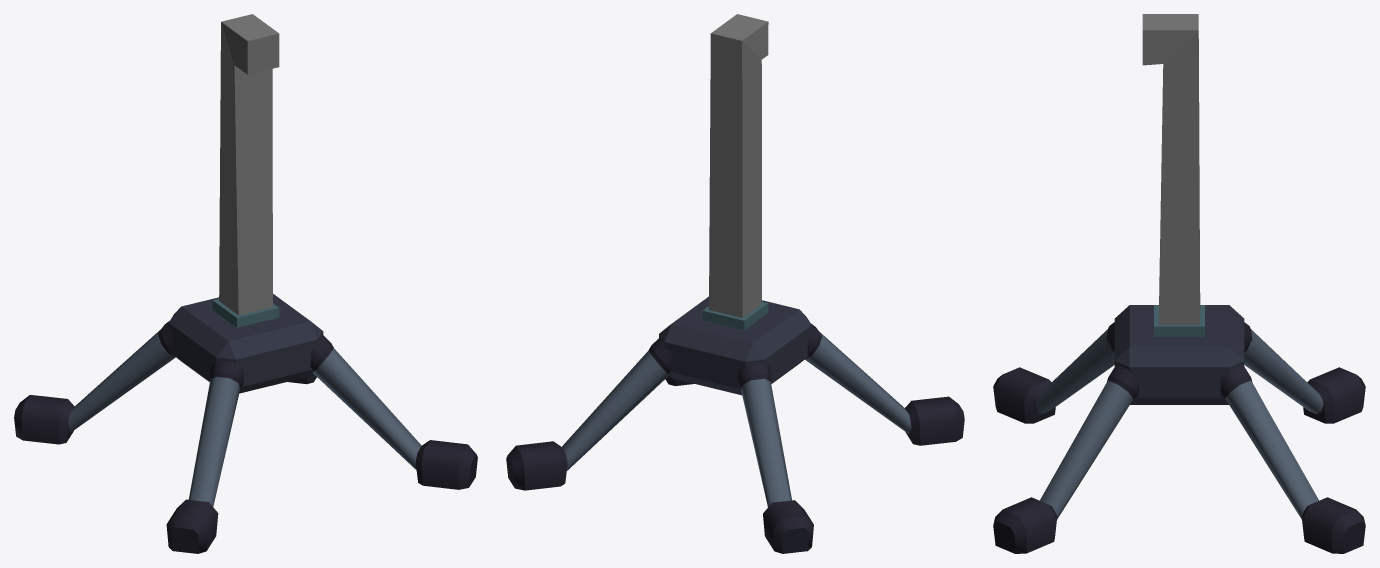
Rendered from SignHolder_2_A.glb.
The picture shows the model from 3 angles, left to right: view 1: azimuth 30°, elevation 25°; view 2: azimuth 150°, elevation 25°; view 3: azimuth 270°, elevation 25°; orthographic projection. The views are drawn at different scales.
Visible parts, largest first — view 1: SignHolder_2_A; view 2: SignHolder_2_A; view 3: SignHolder_2_A.
Part boxes in pixels (x1,y1,x2,y2): SignHolder_2_A: (14, 14, 477, 553); SignHolder_2_A: (506, 14, 964, 553); SignHolder_2_A: (993, 14, 1365, 553).
Size of the model in its own units: 0.7069 by 0.9515 by 0.7069.
2 materials, 2 textured.
